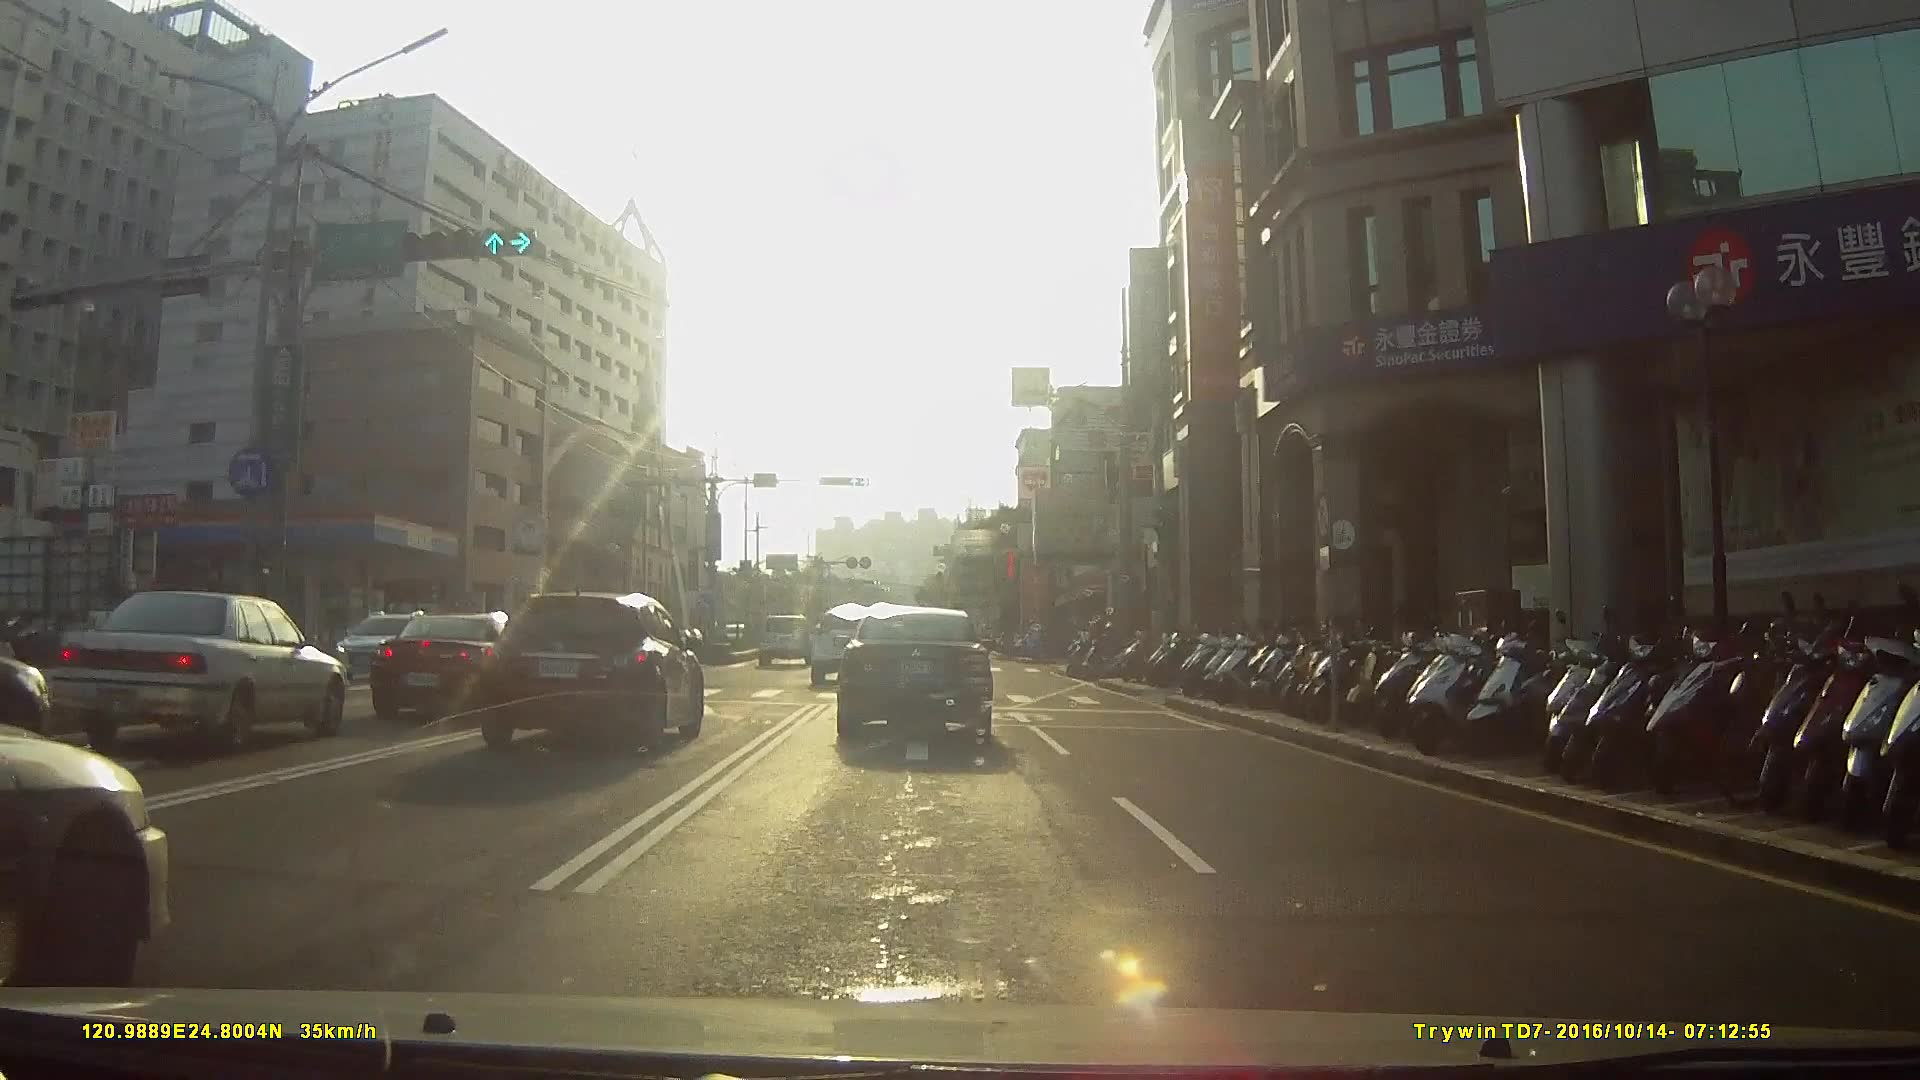rider: (1080, 621, 1144, 679)
vehicle: (55, 584, 353, 753), (465, 581, 717, 757), (353, 605, 559, 730), (833, 604, 1004, 746), (321, 607, 453, 681), (807, 605, 886, 689), (758, 611, 817, 666)
